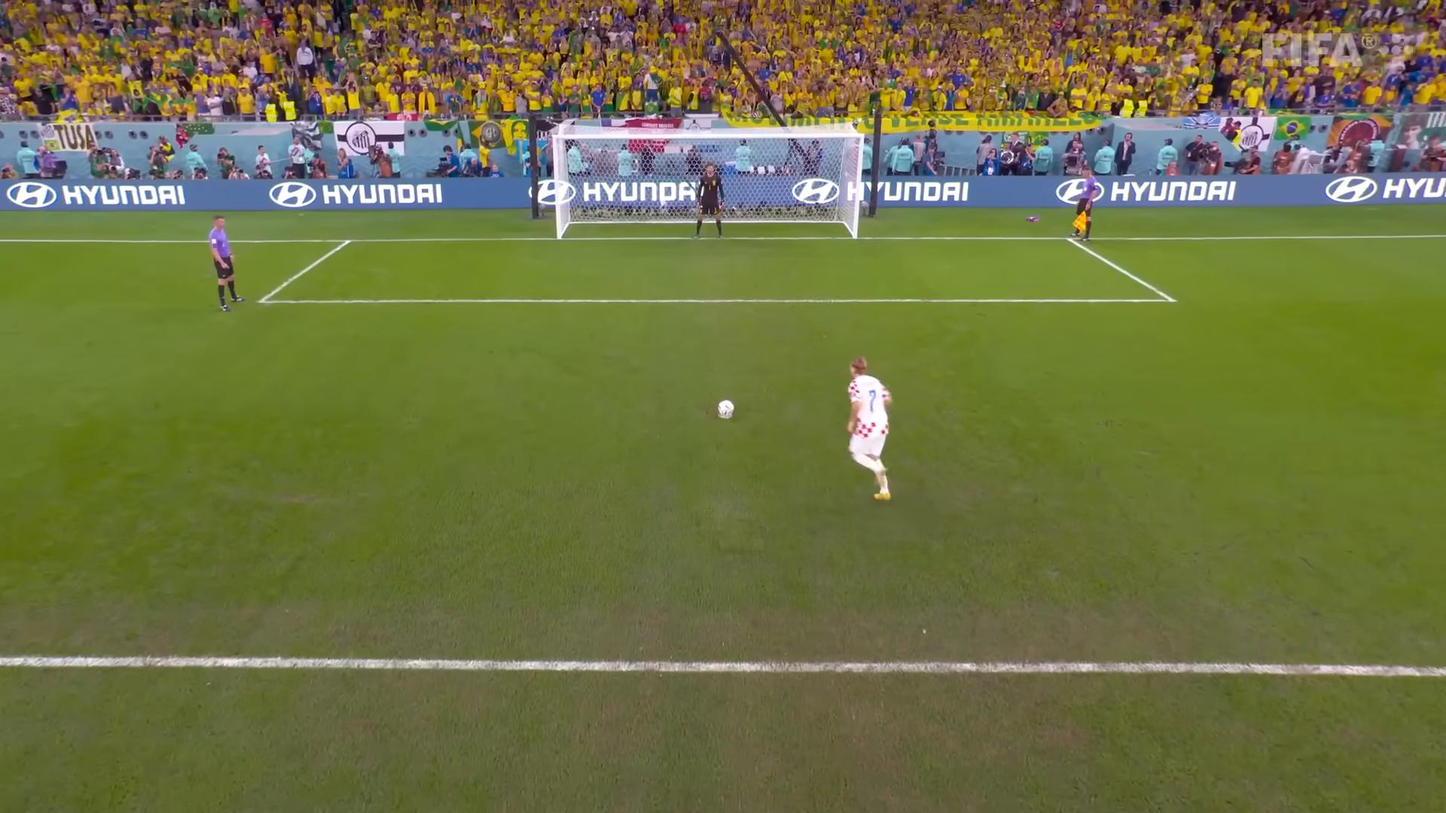Goalkeeper: (695, 161, 726, 236)
Player: (847, 356, 892, 498)
ball: (717, 401, 734, 421)
referee: (209, 215, 243, 309), (1070, 164, 1099, 243)
